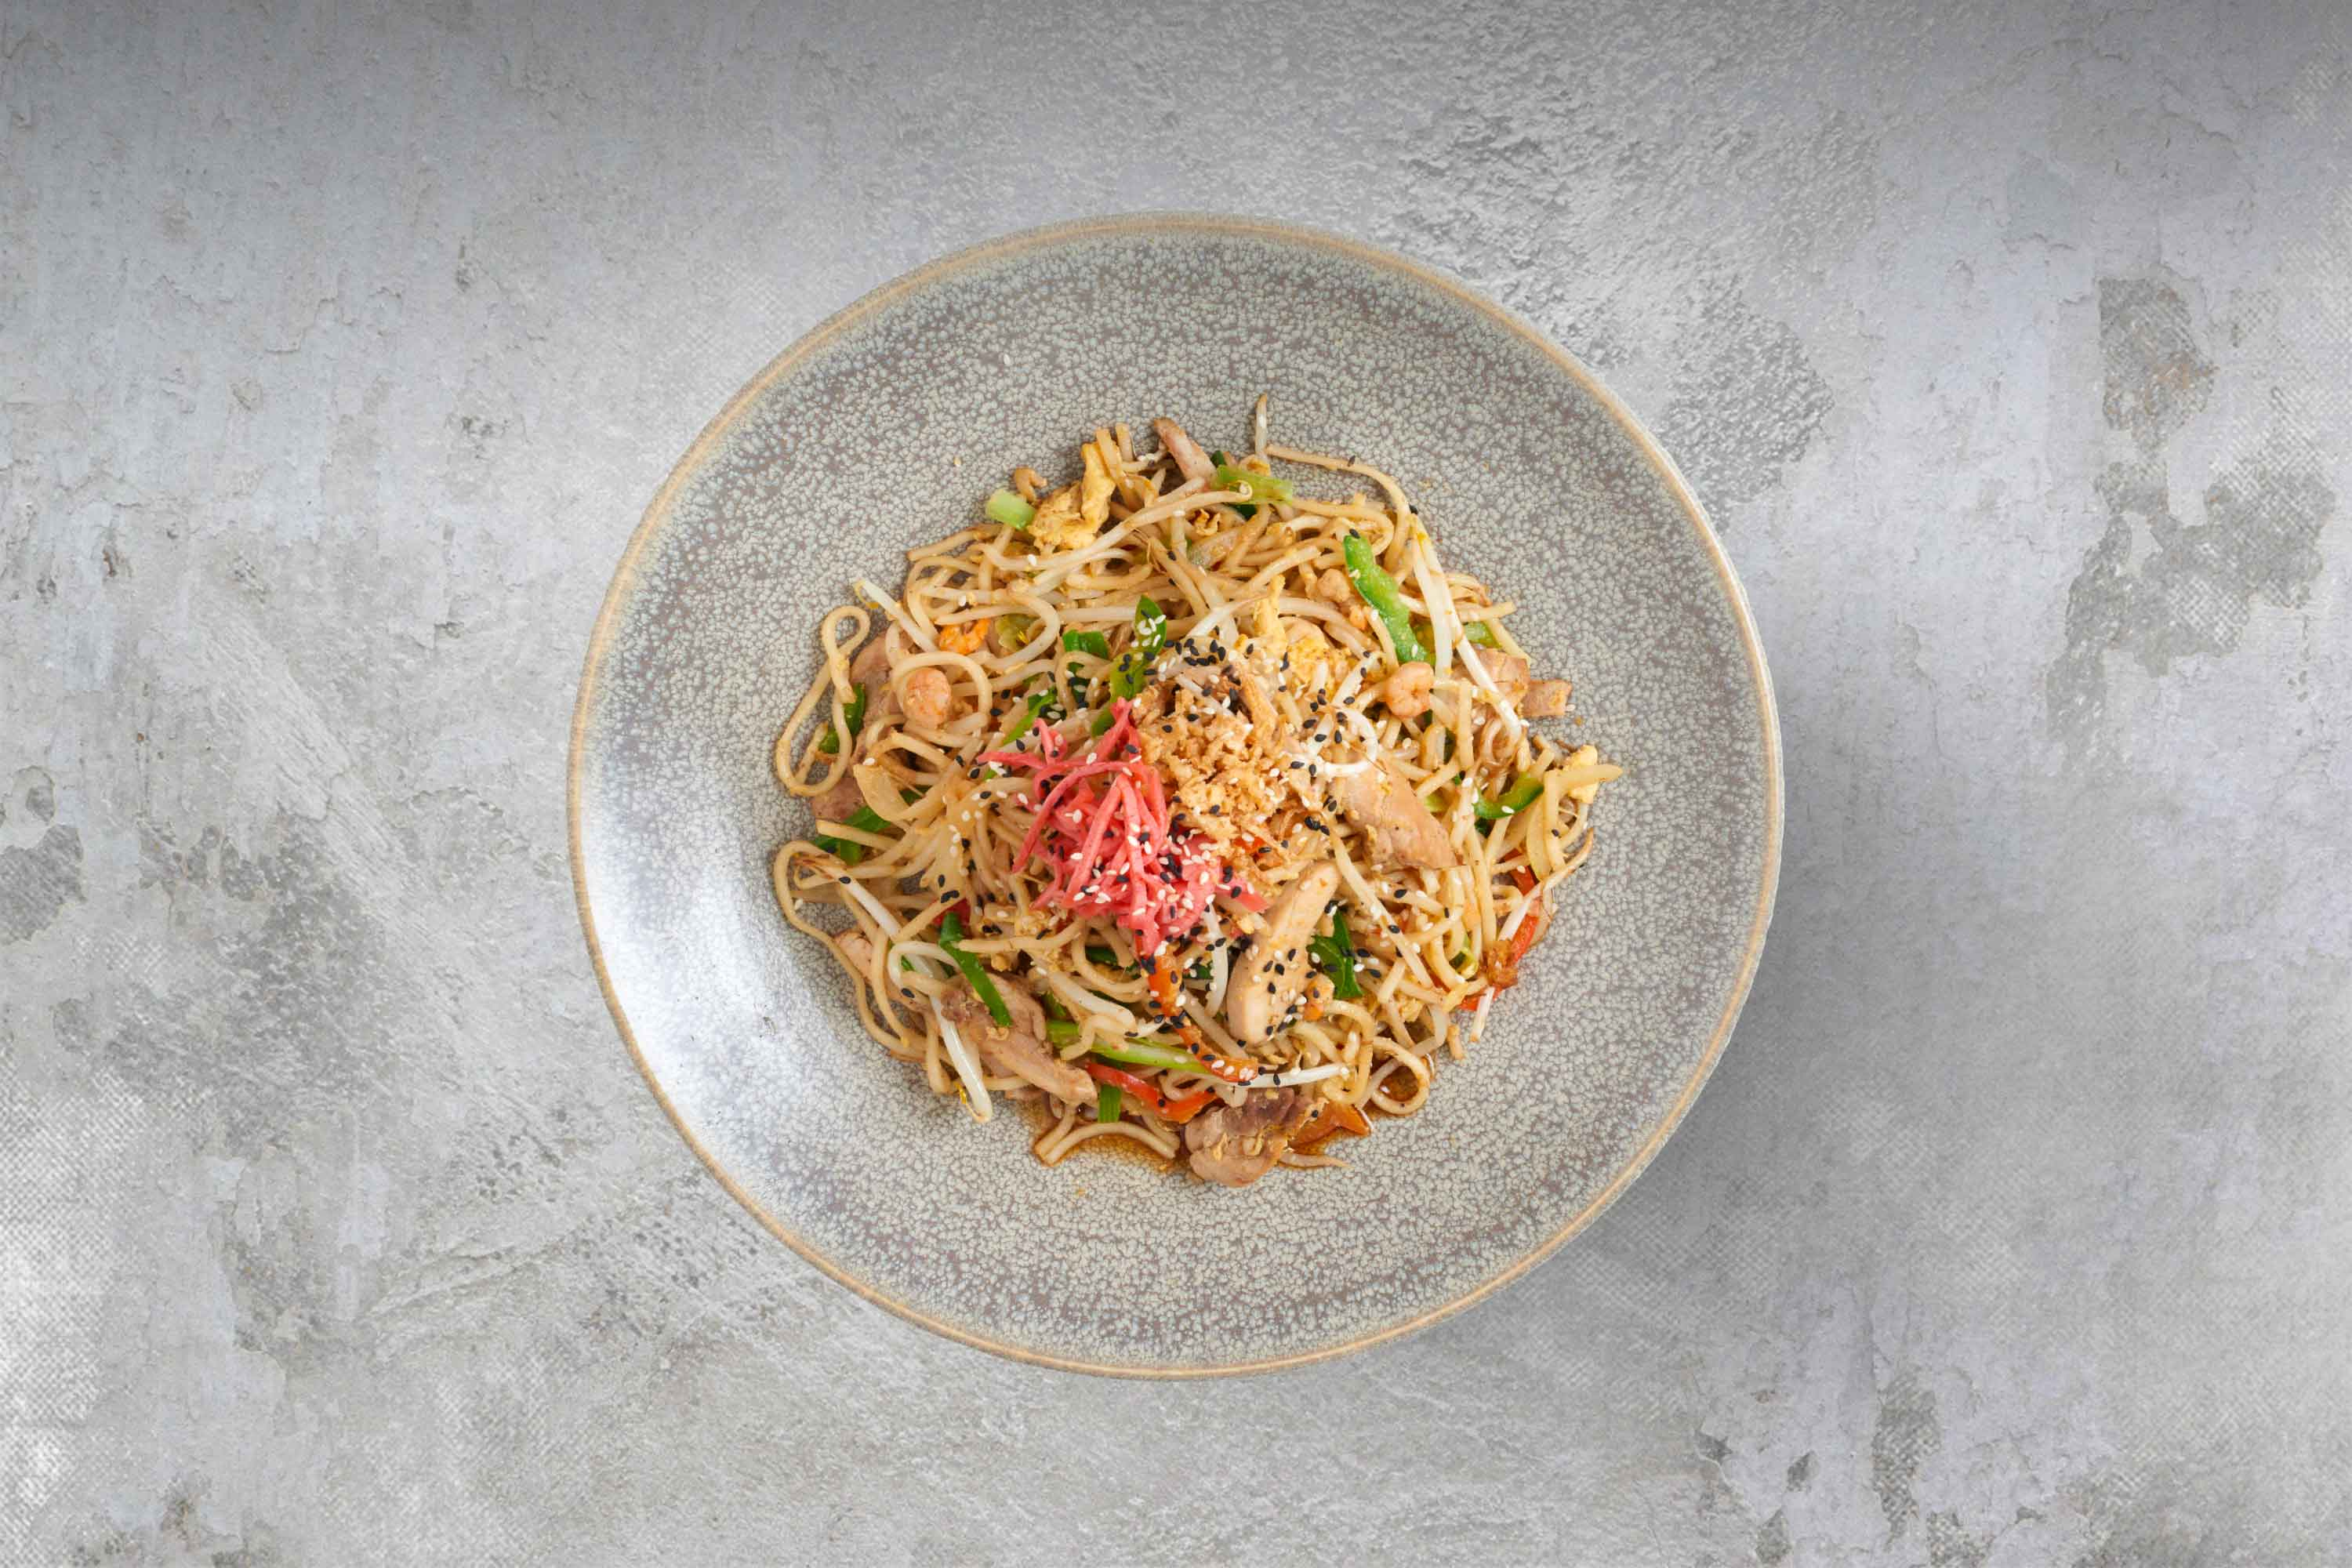Soba: (805, 420, 1551, 1192)
